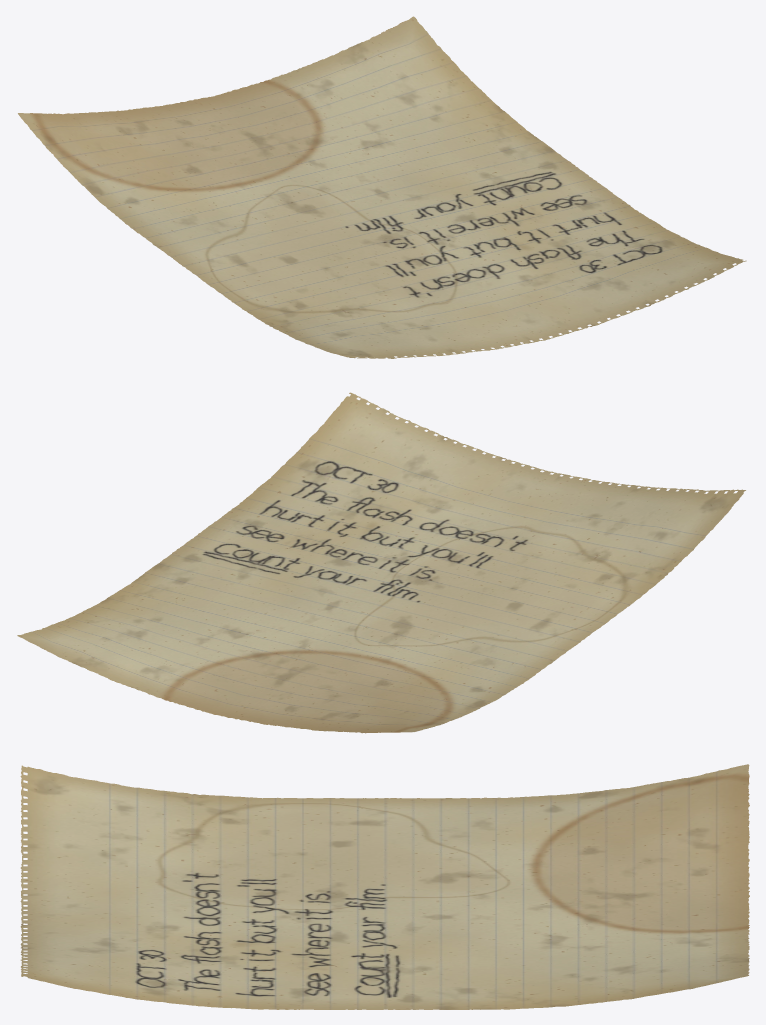
File: note_flash.glb
3 renders of one model, top to bottom at view 1: azimuth 30°, elevation 25°; view 2: azimuth 150°, elevation 25°; view 3: azimuth 270°, elevation 25°, orthographic. The views are drawn at different scales.
Parts seen in each view (by area): view 1: note_flash; view 2: note_flash; view 3: note_flash.
Part boxes in pixels (<box>): note_flash: <box>18,16,746,358</box>; note_flash: <box>17,392,745,733</box>; note_flash: <box>20,764,749,1009</box>.
Bounding box in the file's own units: 0.13 × 0.01 × 0.19.
1 material, 1 textured.
